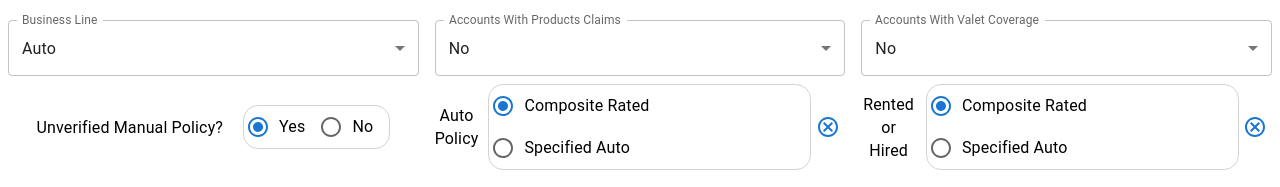
Test: CctInstructionsPolicy › clears CCT Auto policy selection when first cancel button is clicked
This screenshot has width=1280, height=187.
Expected: the 1st radio button labelled "Composite Rated" is checked, 491,94 -> 650,118
What coordinates should you click on to do the following:
click the button named "clear cct auto policy"
I would click on:
 (828, 127)
Its box is 811,112 -> 845,142.
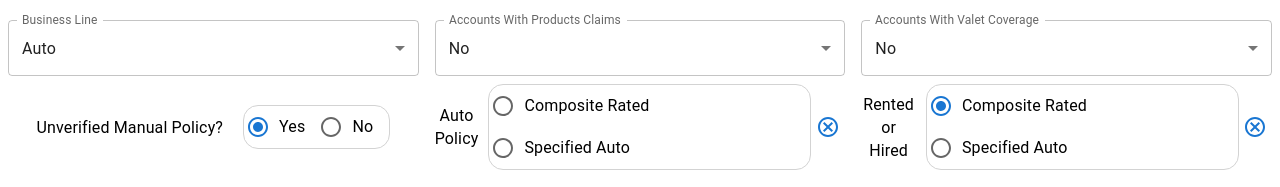
Result: the 1st radio button labelled "Composite Rated" is not checked at 491,94 -> 650,118
